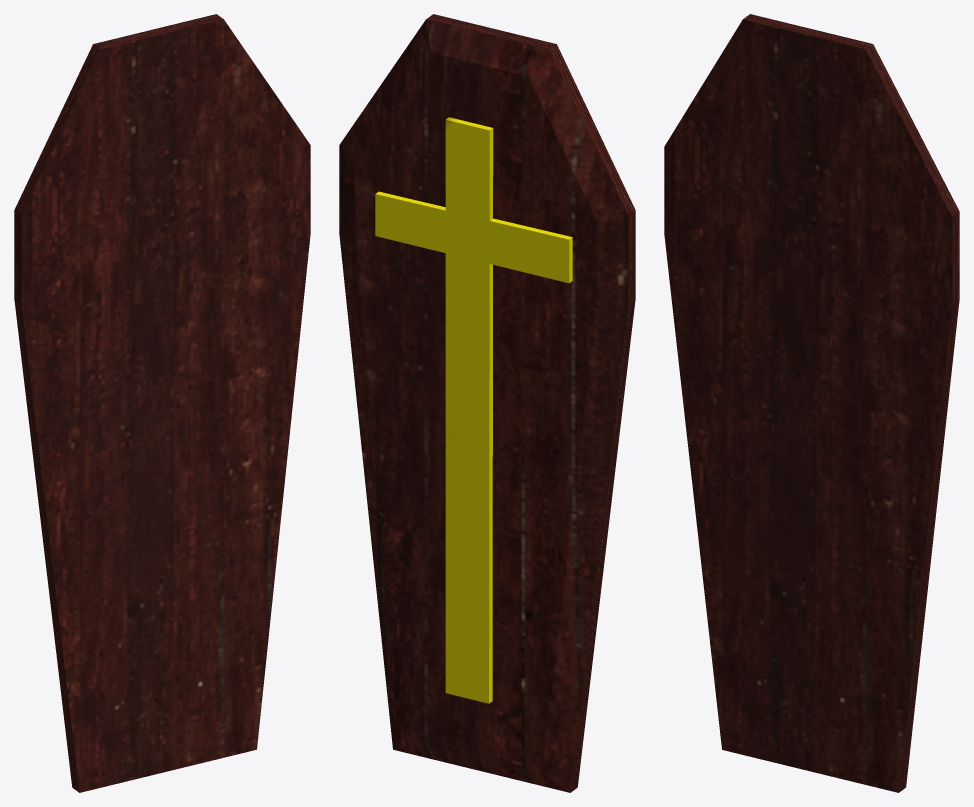
The model's file is coffin_lid01.fbx.
3 renders of one model, left to right at view 1: azimuth 30°, elevation 25°; view 2: azimuth 150°, elevation 25°; view 3: azimuth 330°, elevation 25°, orthographic.
Parts seen in each view (by area): view 1: Cube.001; view 2: Cube.001; view 3: Cube.001.
Boxes of the visible parts, bbox=[...] form: Cube.001: bbox=[14, 14, 310, 792]; Cube.001: bbox=[339, 14, 635, 792]; Cube.001: bbox=[664, 14, 959, 792].
Bounding box in the file's own units: 75.94 × 186 × 8.45.
Materials: 1 (1 with a texture image).
